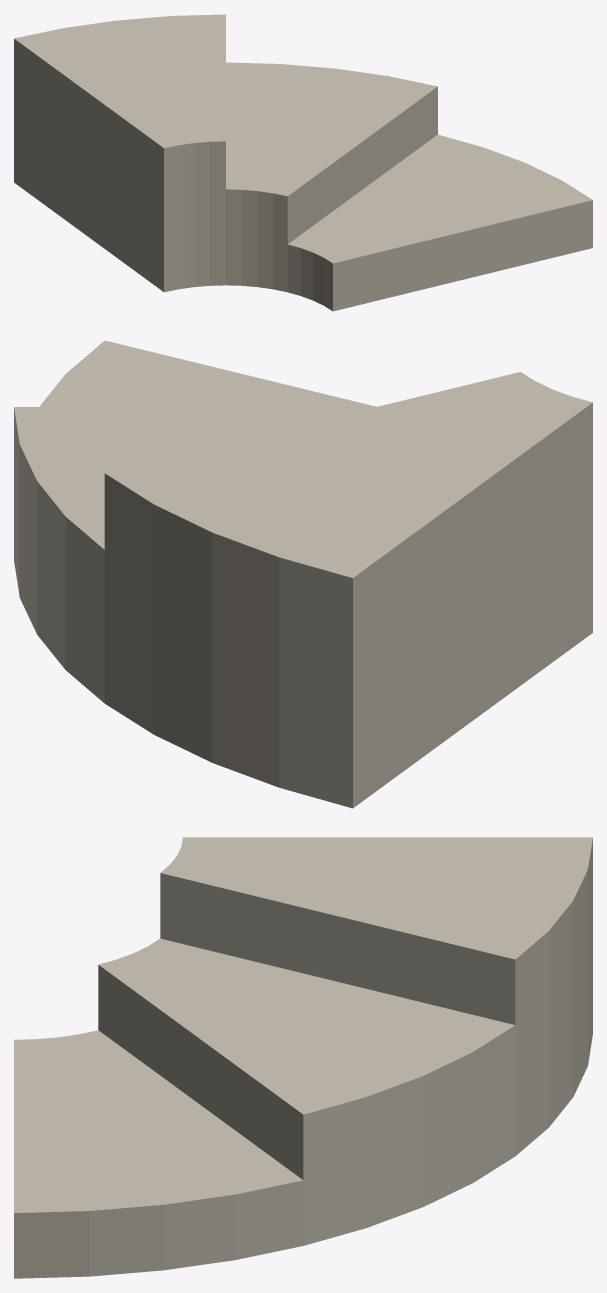
The picture shows the model from 3 angles, top to bottom: view 1: azimuth 30°, elevation 25°; view 2: azimuth 150°, elevation 25°; view 3: azimuth 270°, elevation 25°; orthographic projection. The views are drawn at different scales.
Parts seen in each view (by area): view 1: ContinuousThreeRiseQuarterTurnWinder; view 2: ContinuousThreeRiseQuarterTurnWinder; view 3: ContinuousThreeRiseQuarterTurnWinder.
Part boxes in pixels (x1,y1,x2,y2): ContinuousThreeRiseQuarterTurnWinder: (14, 14, 592, 311); ContinuousThreeRiseQuarterTurnWinder: (14, 340, 592, 808); ContinuousThreeRiseQuarterTurnWinder: (14, 837, 592, 1278).
Size of the model in its own units: 1.2 by 0.45 by 1.2.
